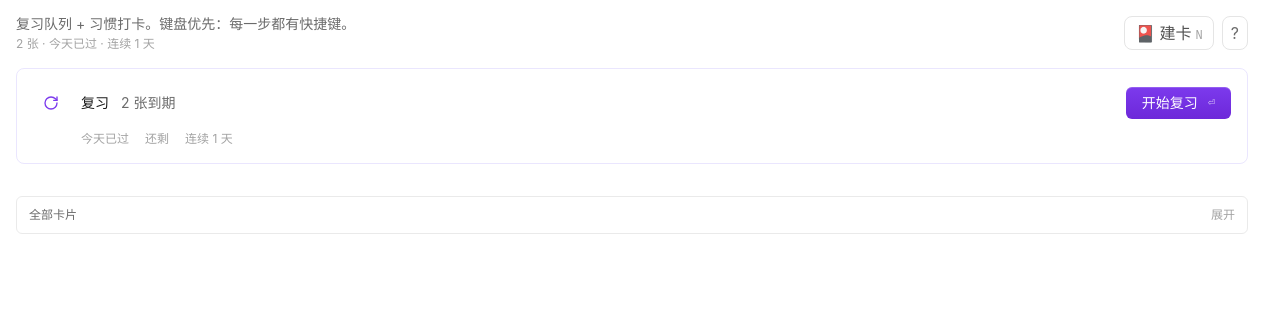
it: ReviewPage · 讲给它听 › 双轨矛盾时把落差说破——只说事实，不替你改判定
The width and height of the screenshot is (1265, 309).
Click the button "开始复习 ⏎" at (1178, 103), box [1126,87,1231,119]
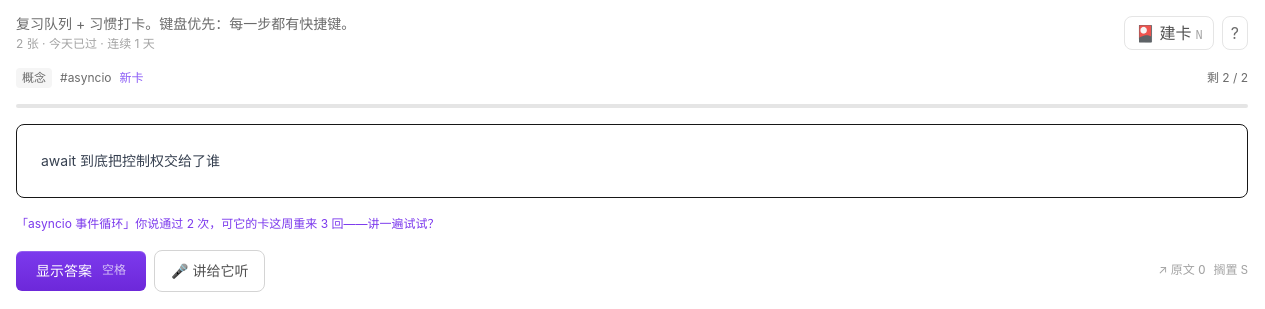
Check: the text "await 到底把控制权交给了谁" is shown, box [41,152,220,169]
Check: the text "「asyncio 事件循环」你说通过 2 次，可它的卡这周重来 3 回——讲一遍试试？" is shown, box [16,216,440,231]
